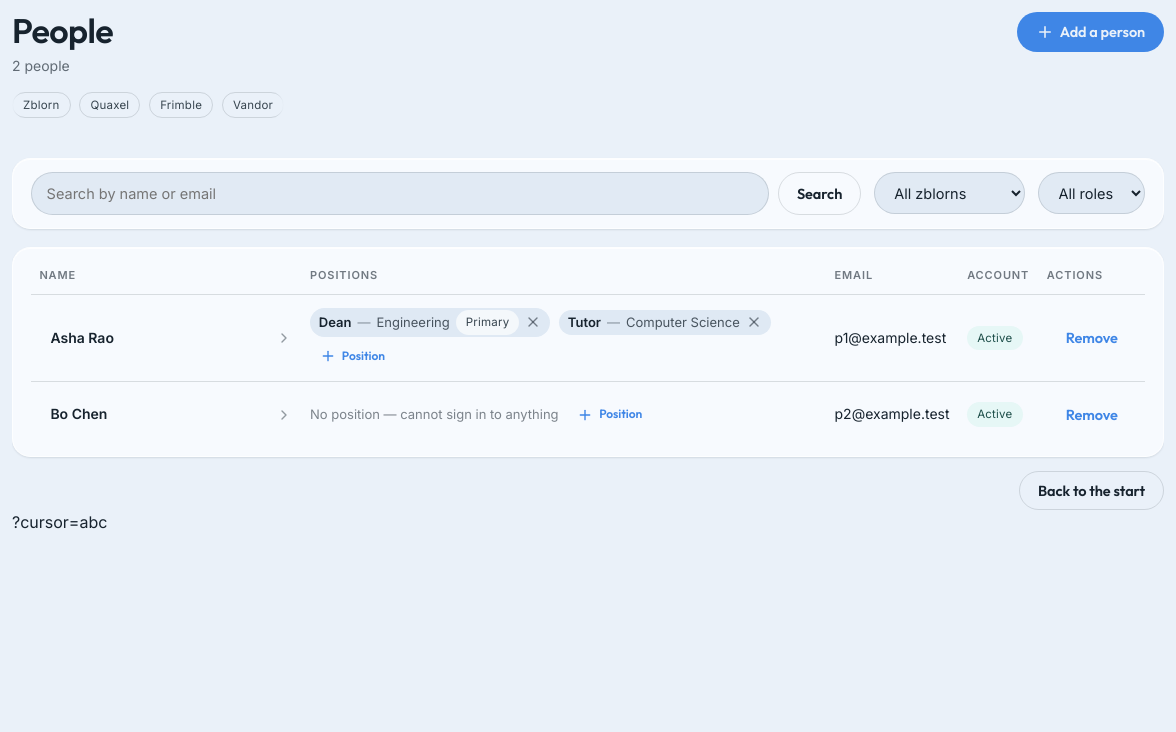
Scenario: filters › drops the cursor when a filter changes — an old cursor means nothing
Type "bo" into the field named "Search people" at (400, 194), box [31,172,769,215]
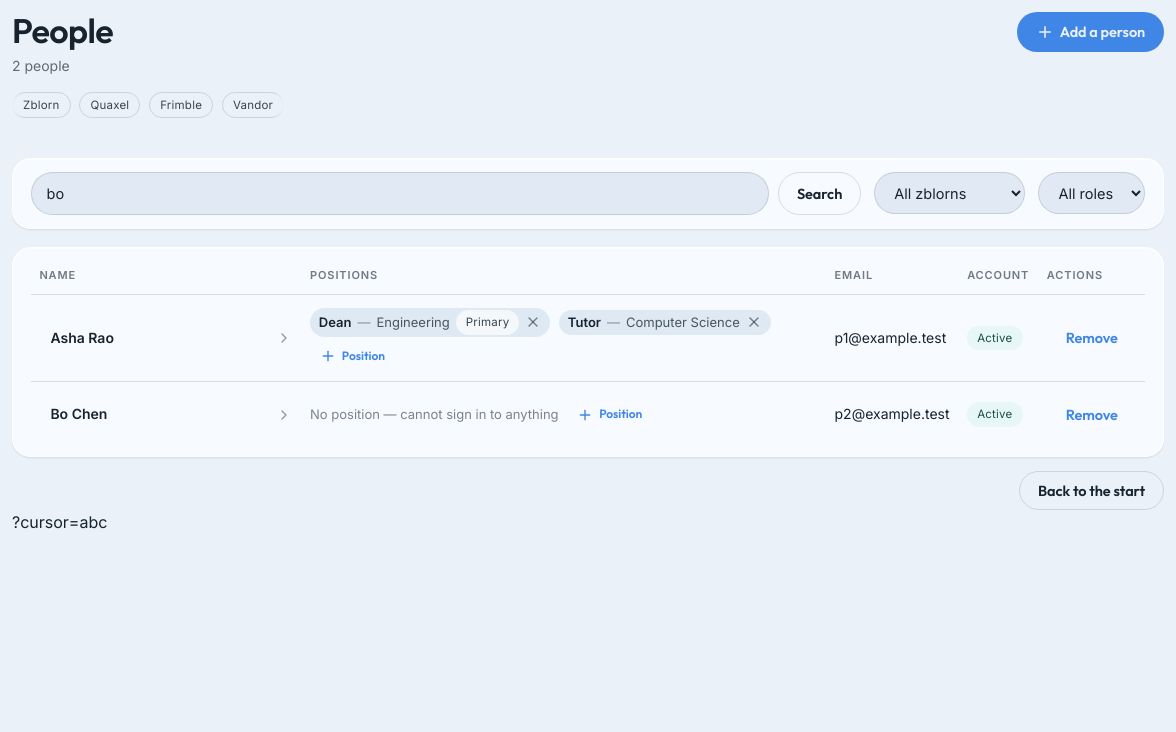
Click the button "Search" at (820, 194), box [778,172,861,215]
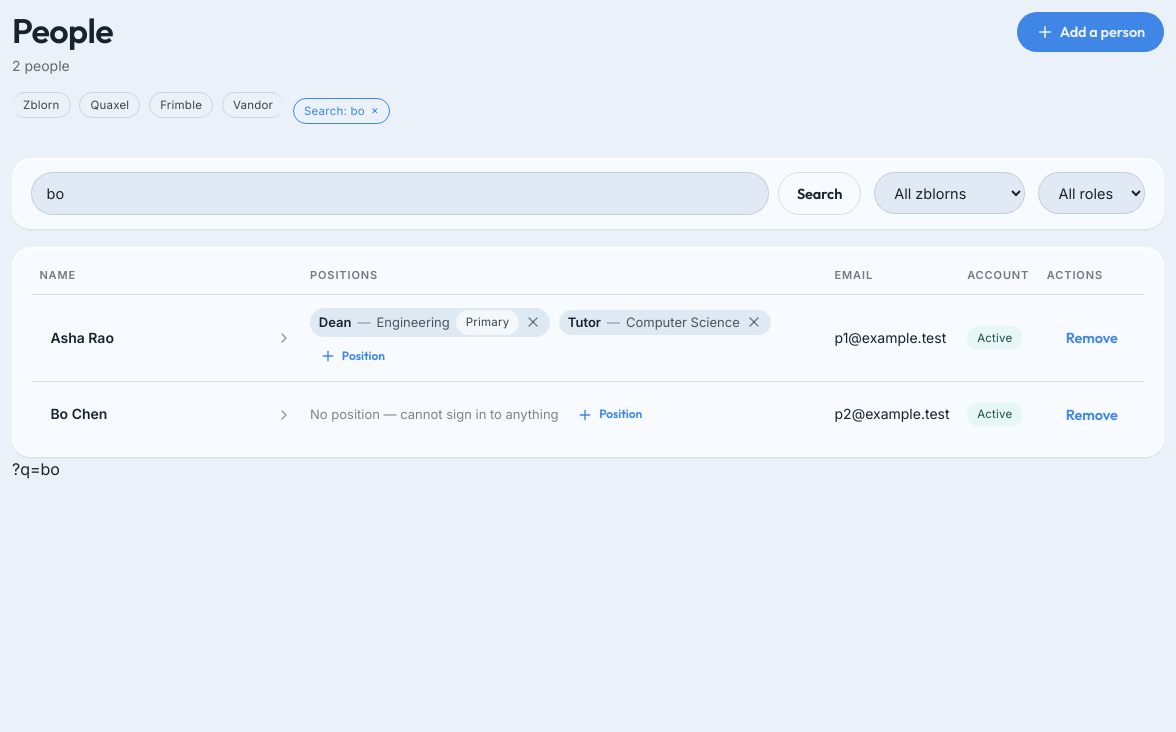
Now the text with test id "where" no longer shows "cursor"
